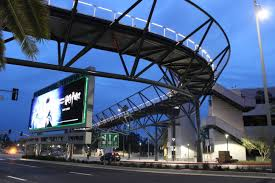bridge: (1, 1, 231, 134)
